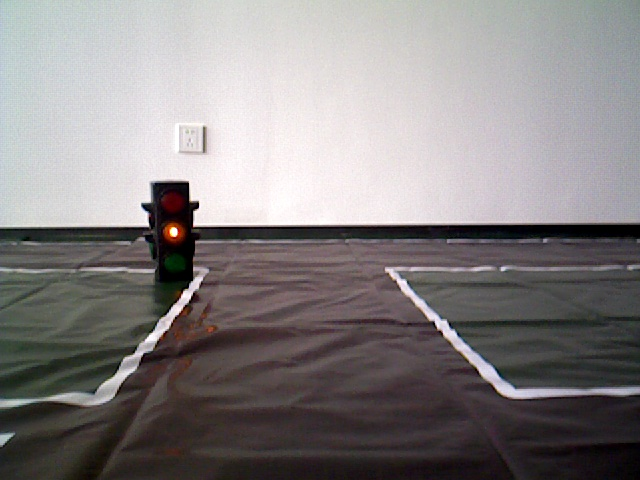yellow: (145, 179, 196, 276)
